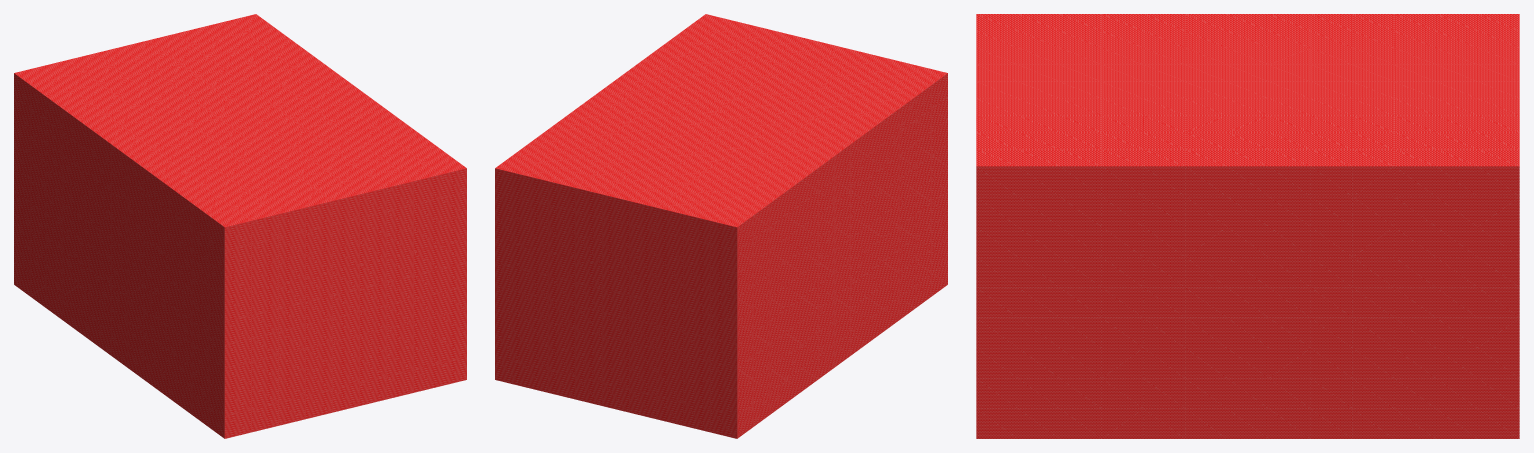
Rendered from DeadCollider #1160067.fbx.
The picture shows the model from 3 angles, left to right: view 1: azimuth 30°, elevation 25°; view 2: azimuth 150°, elevation 25°; view 3: azimuth 270°, elevation 25°; orthographic projection. The views are drawn at different scales.
Parts seen in each view (by area): view 1: DeadCollider; view 2: DeadCollider; view 3: DeadCollider.
Boxes of the visible parts, left/top/right/bottom form: DeadCollider: left=14, top=14, right=466, bottom=438; DeadCollider: left=495, top=14, right=947, bottom=438; DeadCollider: left=976, top=14, right=1519, bottom=438.
Bounding box in the file's own units: 114 × 95.58 × 173.
